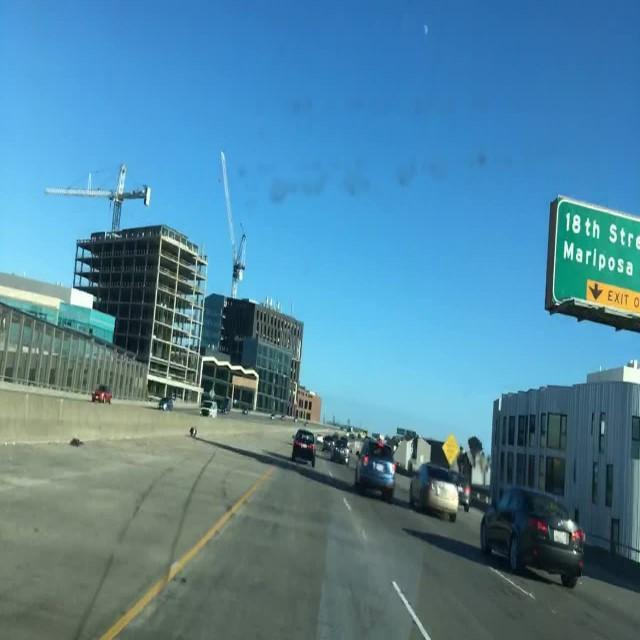normal: (485, 361, 640, 575), (277, 385, 472, 551), (483, 488, 587, 589)
